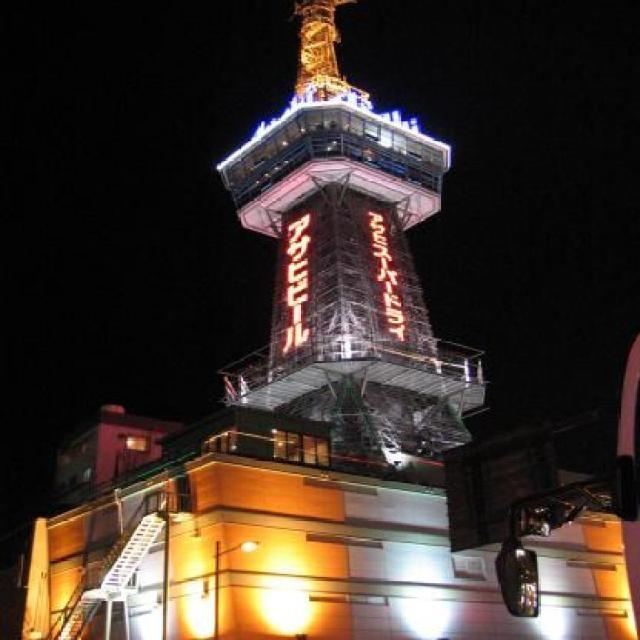stair: (54, 507, 171, 640)
